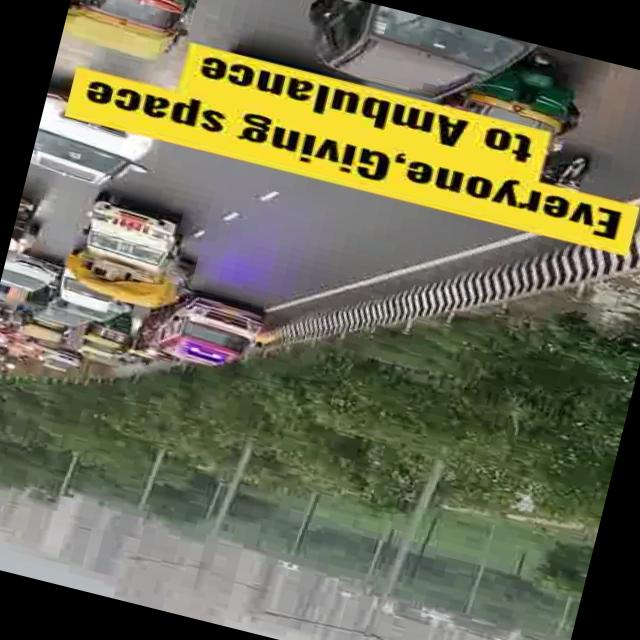ambulance: (161, 284, 266, 384)
